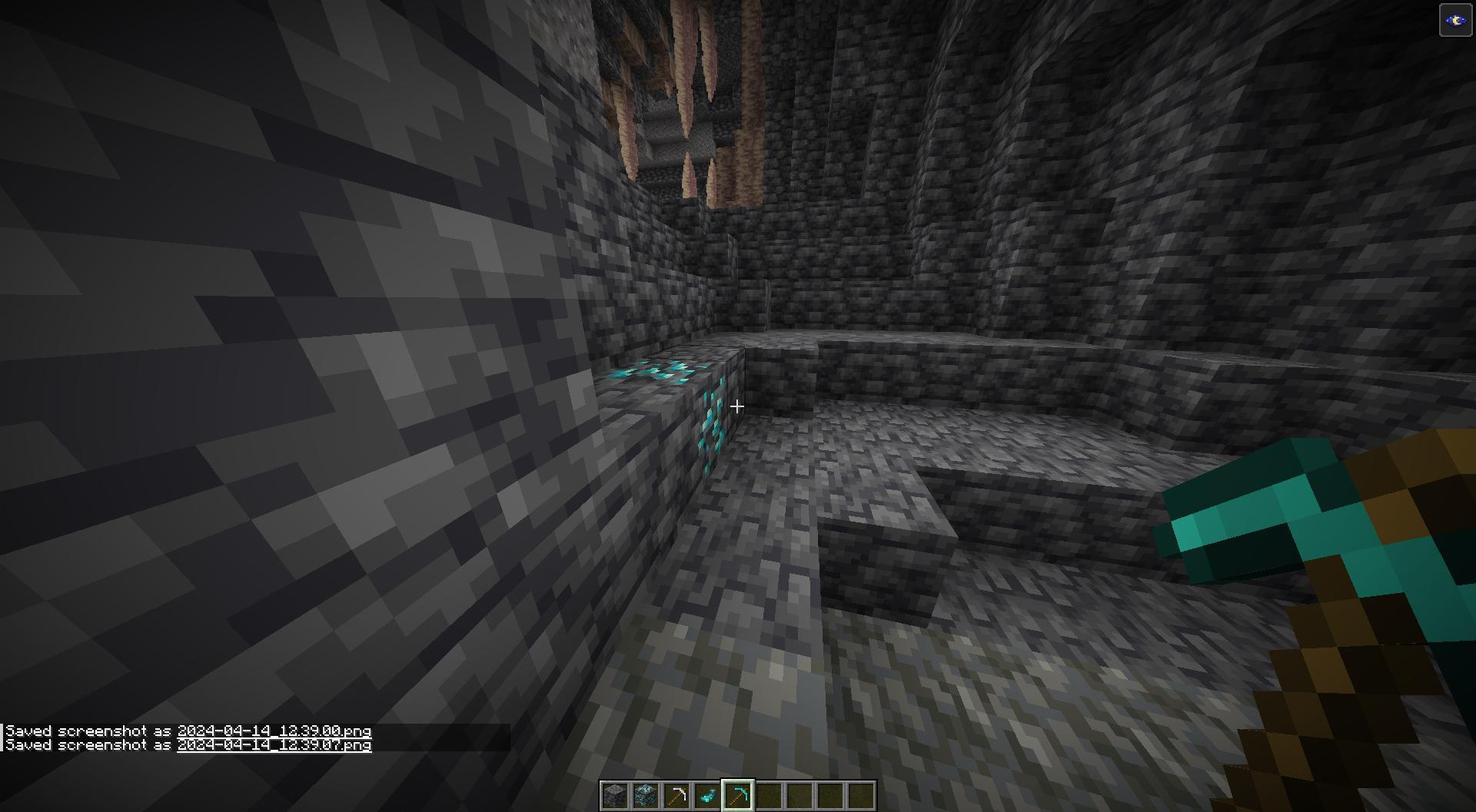diamond ore: (694, 380, 739, 476), (608, 358, 706, 384)
